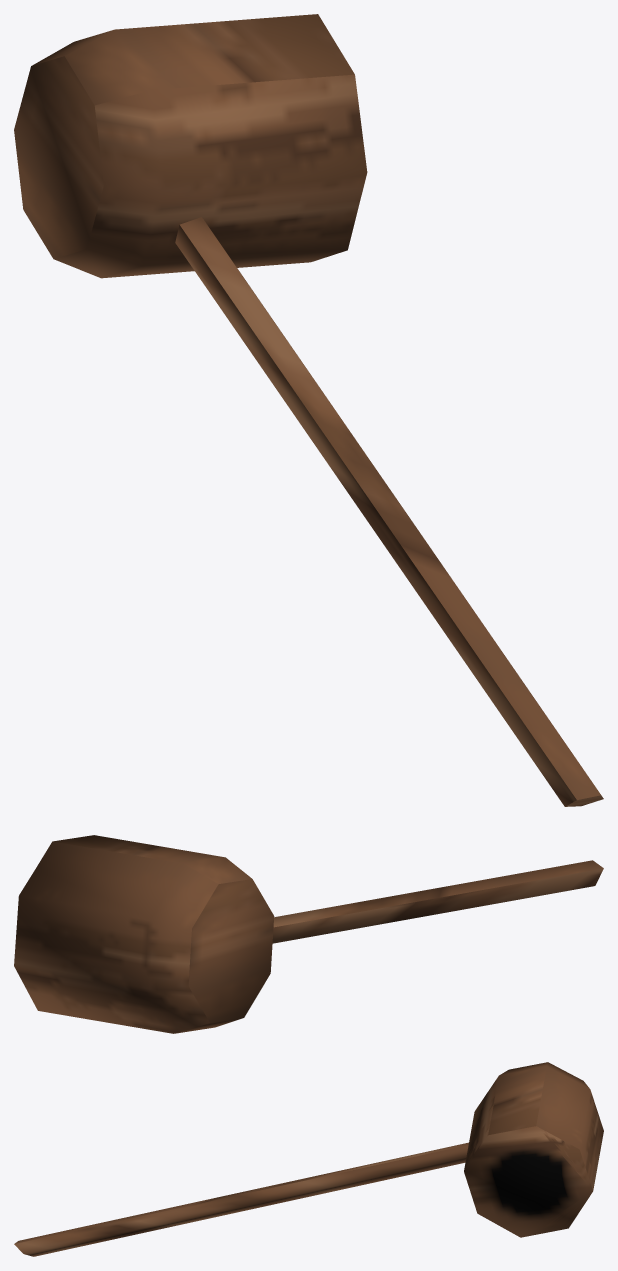
The model's file is M_smoking_pipe.fbx.
3 views of the same model, one above another, from view 1: azimuth 30°, elevation 25°; view 2: azimuth 150°, elevation 25°; view 3: azimuth 270°, elevation 25° (orthographic). The views are drawn at different scales.
Parts seen in each view (by area): view 1: Pipe; view 2: Pipe; view 3: Pipe.
Boxes of the visible parts, x1,y1,x2,y2 form: Pipe: (14,14,603,806); Pipe: (14,835,603,1033); Pipe: (14,1062,603,1256).
Bounding box in the file's own units: 0.0195 × 0.0273 × 0.0728.
